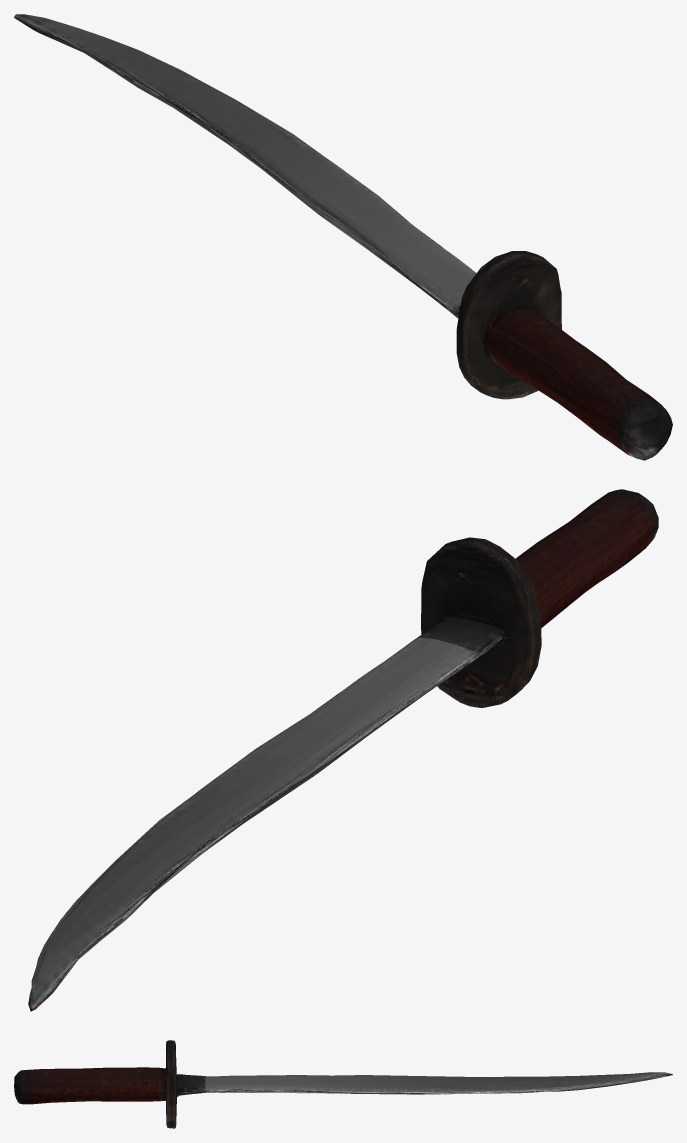
The model's file is katana.glb.
The picture shows the model from 3 angles, top to bottom: view 1: azimuth 30°, elevation 25°; view 2: azimuth 150°, elevation 25°; view 3: azimuth 270°, elevation 25°; orthographic projection. The views are drawn at different scales.
Parts seen in each view (by area): view 1: geometry_0.022; view 2: geometry_0.022; view 3: geometry_0.022.
Part boxes in pixels (x1,y1,x2,y2): geometry_0.022: (14,14,672,460); geometry_0.022: (28,489,658,1011); geometry_0.022: (14,1040,672,1128).
Bounding box in the file's own units: 0.0886 × 0.1265 × 0.9128.
1 material, 1 textured.
